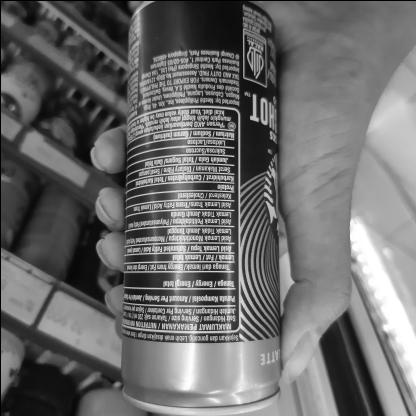alumunium_can: (114, 0, 307, 416)
